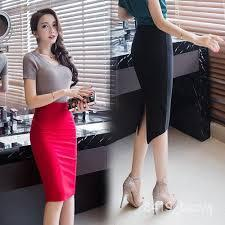skirt: (120, 23, 183, 141), (21, 100, 87, 204)
